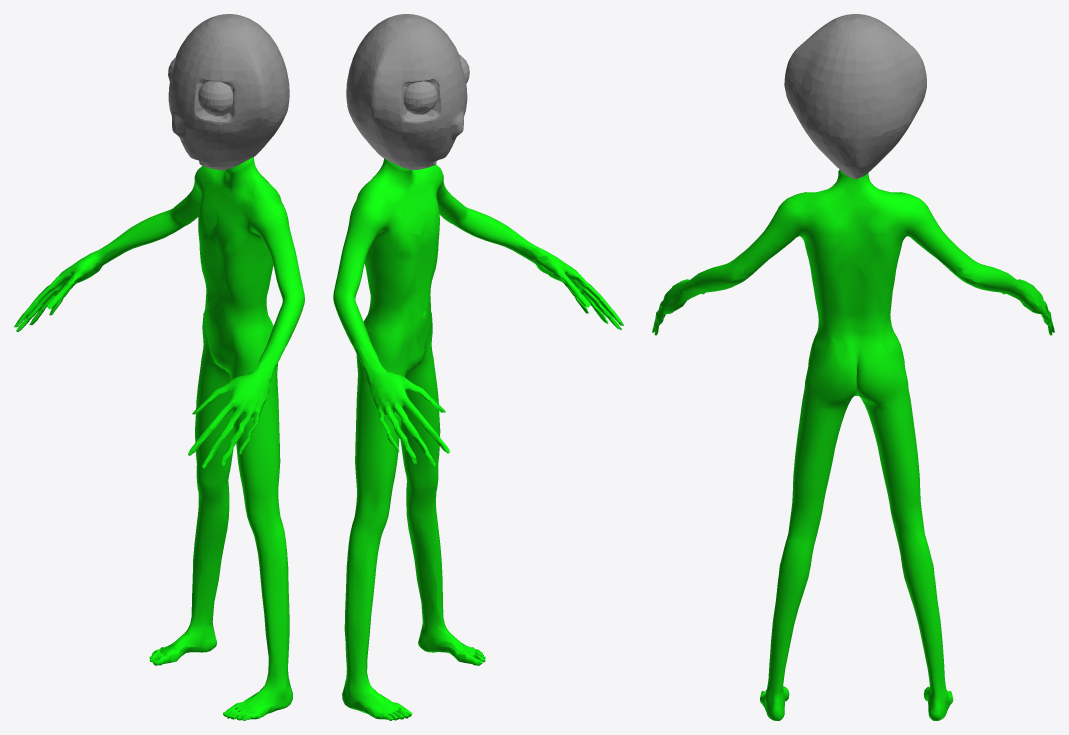
The model's file is Charles.fbx.
3 renders of one model, left to right at view 1: azimuth 30°, elevation 25°; view 2: azimuth 150°, elevation 25°; view 3: azimuth 270°, elevation 25°, orthographic. The views are drawn at different scales.
Visible parts, largest first — view 1: CuerpoAlien, Head, eye1; view 2: CuerpoAlien, Head, eye2; view 3: CuerpoAlien, Head.
Part boxes in pixels (x1,y1,x2,y2): CuerpoAlien: (14,157,304,720); Head: (168,14,289,170); eye1: (198,81,233,116); CuerpoAlien: (333,158,623,720); Head: (346,14,467,170); eye2: (403,81,437,114); CuerpoAlien: (652,169,1054,720); Head: (784,14,926,179).
Size of the model in its own units: 72.78 by 255 by 134.
Materials: 3 (1 with a texture image).
